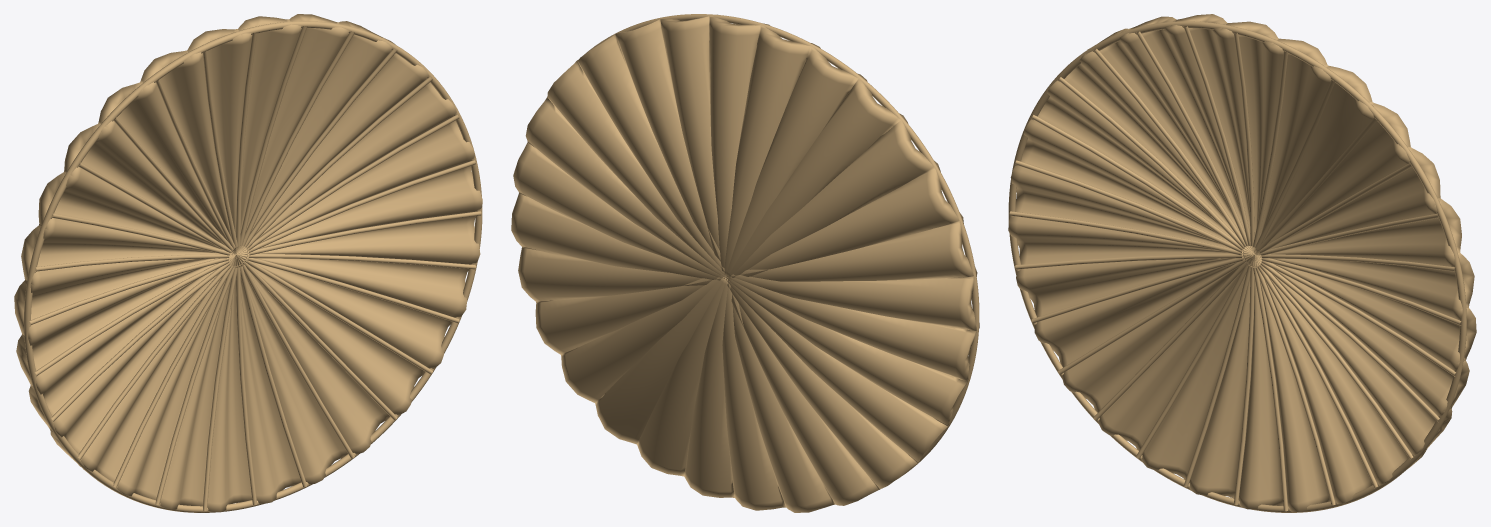
File: radial-gold.glb
3 views of the same model, side by side, from view 1: azimuth 30°, elevation 25°; view 2: azimuth 150°, elevation 25°; view 3: azimuth 330°, elevation 25° (orthographic).
Visible parts, largest first — view 1: radial continuous metal face, Rolled perimeter, Radial pressed rib.019, Radial pressed rib.018, Radial pressed rib.002, Radial pressed rib.020, Radial pressed rib.003, Radial pressed rib.004, Radial pressed rib.017, Radial pressed rib.001, Radial pressed rib.005, Radial pressed rib.021 (+18 smaller); view 2: radial continuous metal face, Rolled perimeter; view 3: radial continuous metal face, Rolled perimeter, Radial pressed rib.023, Radial pressed rib.024, Radial pressed rib.012, Radial pressed rib.022, Radial pressed rib.011, Radial pressed rib.010, Radial pressed rib.025, Radial pressed rib.013, Radial pressed rib.009, Radial pressed rib.021 (+18 smaller).
Part boxes in pixels (box(x1,y1,x2,y2)): radial continuous metal face: box(14, 14, 482, 512); Rolled perimeter: box(24, 21, 482, 512); Radial pressed rib.019: box(155, 266, 235, 505); Radial pressed rib.018: box(113, 266, 233, 488); Radial pressed rib.002: box(246, 114, 459, 250); Radial pressed rib.020: box(203, 266, 237, 511); Radial pressed rib.003: box(246, 77, 432, 248); Radial pressed rib.004: box(244, 48, 397, 246); Radial pressed rib.017: box(77, 264, 231, 459); Radial pressed rib.001: box(247, 160, 475, 253); Radial pressed rib.005: box(242, 31, 354, 246); Radial pressed rib.021: box(236, 265, 257, 505); radial continuous metal face: box(511, 14, 979, 512); Rolled perimeter: box(584, 14, 979, 479); radial continuous metal face: box(1008, 14, 1476, 512); Rolled perimeter: box(1008, 21, 1466, 512); Radial pressed rib.023: box(1255, 266, 1335, 505); Radial pressed rib.024: box(1257, 266, 1377, 488); Radial pressed rib.012: box(1031, 115, 1244, 250); Radial pressed rib.022: box(1253, 266, 1287, 511); Radial pressed rib.011: box(1058, 77, 1244, 248); Radial pressed rib.010: box(1094, 49, 1246, 246); Radial pressed rib.025: box(1259, 264, 1413, 459); Radial pressed rib.013: box(1015, 160, 1243, 253); Radial pressed rib.009: box(1136, 31, 1248, 246); Radial pressed rib.021: box(1233, 266, 1254, 505).
Bounding box in the file's own units: 2.03 × 2.03 × 0.226.
